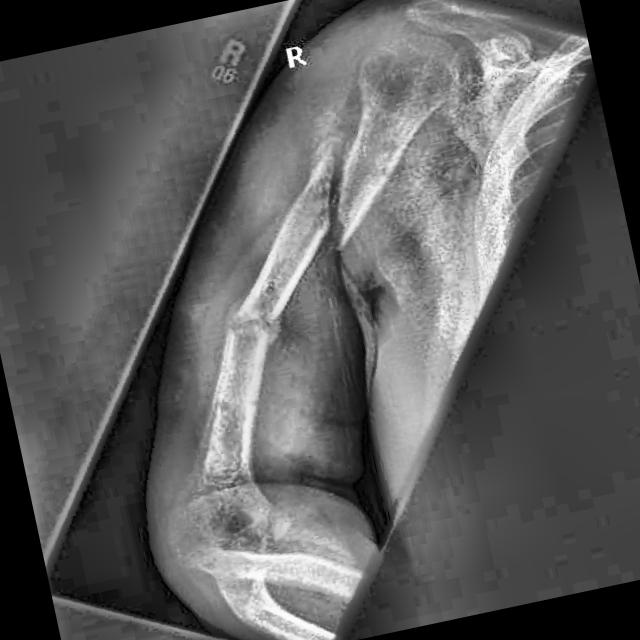humerus: (187, 278, 313, 376)
